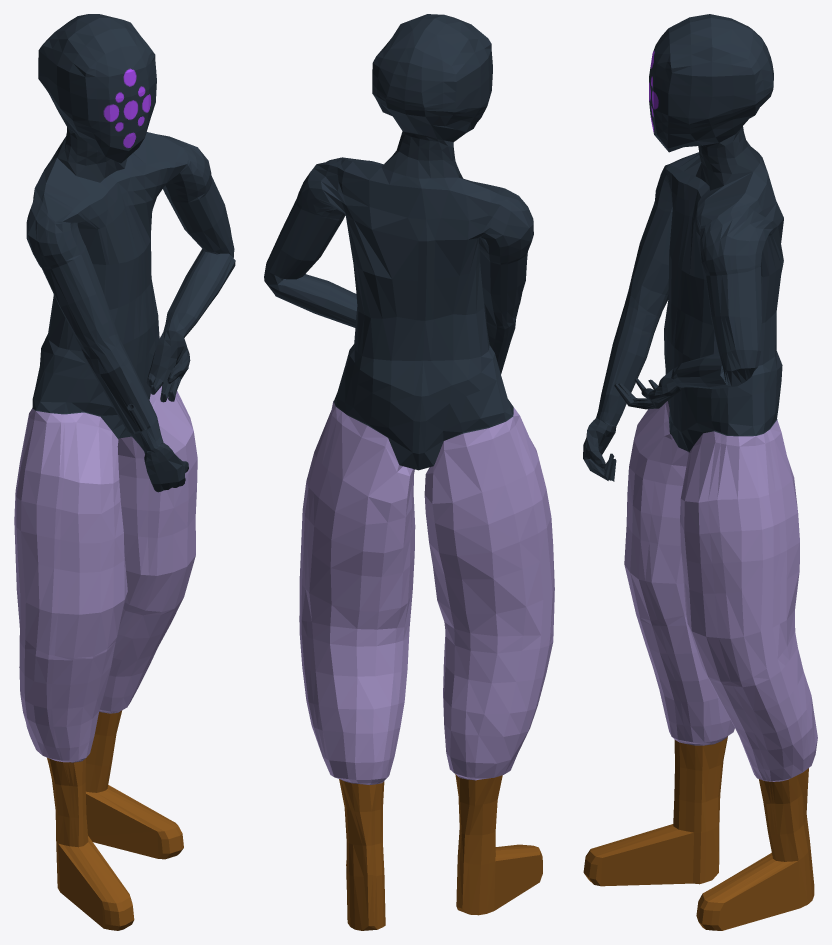
The model's file is Oracle_WR_000027.obj.
The picture shows the model from 3 angles, left to right: view 1: azimuth 30°, elevation 25°; view 2: azimuth 150°, elevation 25°; view 3: azimuth 270°, elevation 25°; orthographic projection. The views are drawn at different scales.
Parts seen in each view (by area): view 1: Cube; view 2: Cube; view 3: Cube.
Boxes of the visible parts, x1,y1,x2,y2 form: Cube: [14, 14, 235, 930]; Cube: [264, 14, 554, 930]; Cube: [583, 14, 817, 930].
Bounding box in the file's own units: 1.15 × 3.94 × 0.9524.
